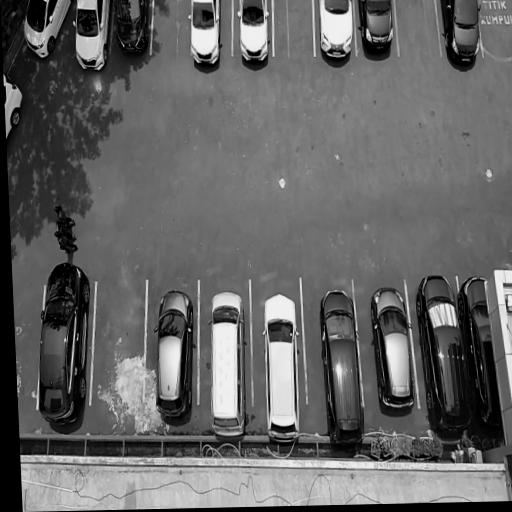Car: (27, 253, 98, 438), (419, 280, 472, 441), (202, 279, 252, 438), (320, 291, 368, 455), (150, 282, 199, 426), (263, 297, 305, 452), (372, 283, 416, 417), (466, 278, 502, 439), (20, 1, 70, 72), (443, 0, 486, 71), (72, 0, 112, 74), (188, 0, 226, 74), (320, 0, 358, 71), (113, 0, 156, 60), (238, 0, 272, 73), (363, 0, 399, 62), (4, 68, 26, 141)
Space Available: (96, 272, 150, 425), (395, 0, 441, 61), (150, 0, 191, 68), (272, 0, 313, 66), (479, 0, 512, 62)
